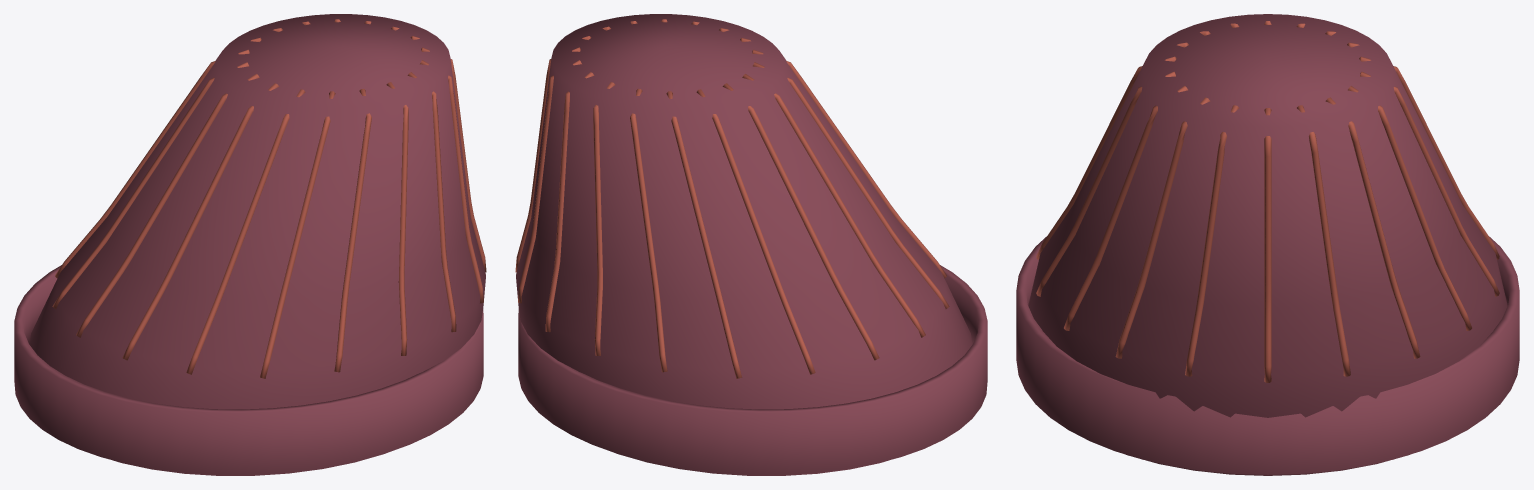
The model's file is 14-campfire-slouch.glb.
3 renders of one model, left to right at view 1: azimuth 30°, elevation 25°; view 2: azimuth 150°, elevation 25°; view 3: azimuth 270°, elevation 25°, orthographic. The views are drawn at different scales.
Visible parts, largest first — view 1: Hat14_Crown1, Hat14_Band2, Hat14_KnitRib13, Hat14_KnitRib14, Hat14_KnitRib15, Hat14_KnitRib16, Hat14_KnitRib12, Hat14_KnitRib17, Hat14_KnitRib11, Hat14_KnitRib18, Hat14_KnitRib10, Hat14_KnitRib19 (+1 smaller); view 2: Hat14_Crown1, Hat14_Band2, Hat14_KnitRib11, Hat14_KnitRib10, Hat14_KnitRib9, Hat14_KnitRib8, Hat14_KnitRib12, Hat14_KnitRib7, Hat14_KnitRib13, Hat14_KnitRib6, Hat14_KnitRib14, Hat14_KnitRib5 (+1 smaller); view 3: Hat14_Crown1, Hat14_Band2, Hat14_KnitRib3, Hat14_KnitRib4, Hat14_KnitRib20, Hat14_KnitRib5, Hat14_KnitRib19, Hat14_KnitRib6, Hat14_KnitRib18, Hat14_KnitRib7, Hat14_KnitRib17, Hat14_KnitRib16 (+1 smaller).
Boxes of the visible parts, x1,y1,x2,y2 form: Hat14_Crown1: (29,14,485,475); Hat14_Band2: (14,265,483,474); Hat14_KnitRib13: (122,83,279,360); Hat14_KnitRib14: (186,89,305,374); Hat14_KnitRib15: (260,91,335,378); Hat14_KnitRib16: (334,88,371,372); Hat14_KnitRib12: (76,74,259,337); Hat14_KnitRib17: (386,82,408,355); Hat14_KnitRib11: (52,62,248,308); Hat14_KnitRib18: (407,72,456,332); Hat14_KnitRib10: (55,49,249,278); Hat14_KnitRib19: (420,60,483,303); Hat14_Crown1: (516,14,972,475); Hat14_Band2: (518,265,987,474); Hat14_KnitRib11: (722,83,879,360); Hat14_KnitRib10: (696,89,815,374); Hat14_KnitRib9: (666,91,741,378); Hat14_KnitRib8: (630,88,667,372); Hat14_KnitRib12: (742,74,925,337); Hat14_KnitRib7: (593,82,615,355); Hat14_KnitRib13: (753,62,949,308); Hat14_KnitRib6: (545,72,594,332); Hat14_KnitRib14: (752,49,946,278); Hat14_KnitRib5: (518,60,581,303); Hat14_Crown1: (1028,14,1507,475); Hat14_Band2: (1016,236,1519,474); Hat14_KnitRib3: (1264,108,1271,382); Hat14_KnitRib4: (1297,105,1350,376); Hat14_KnitRib20: (1185,105,1238,376); Hat14_KnitRib5: (1325,97,1420,358); Hat14_KnitRib19: (1115,97,1210,358); Hat14_KnitRib6: (1348,86,1471,330); Hat14_KnitRib18: (1064,86,1187,330); Hat14_KnitRib7: (1360,71,1499,296); Hat14_KnitRib17: (1036,71,1175,296); Hat14_KnitRib16: (1036,56,1176,259).
Size of the model in its own units: 0.6602 by 0.475 by 0.6045.
